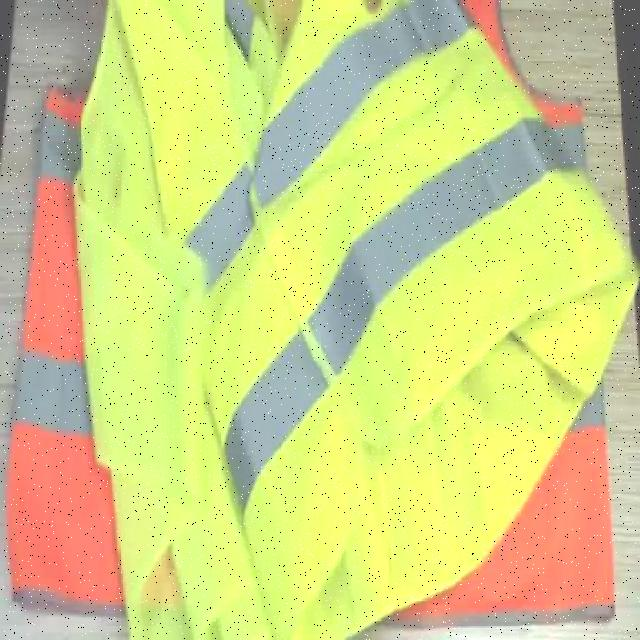Mask: (73, 0, 638, 638)
